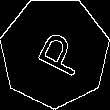P_NW: (25, 24, 85, 80)
